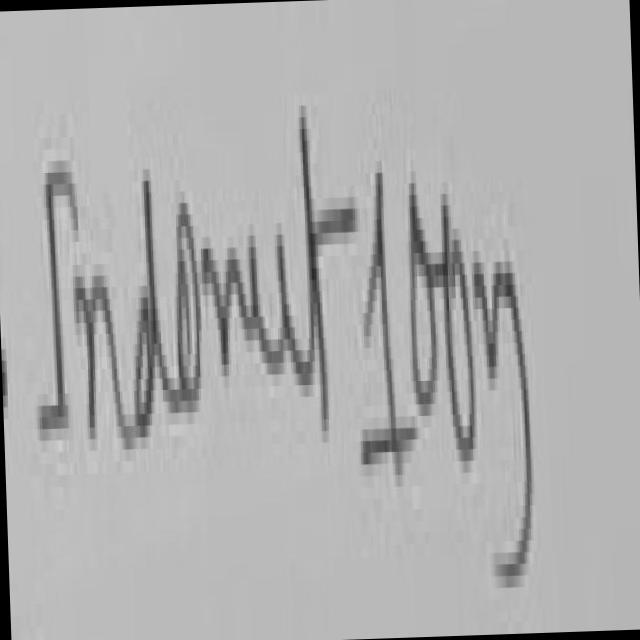0: (443, 228, 476, 471), (409, 183, 436, 419)
1: (363, 172, 417, 458)
I: (45, 164, 65, 422)
d: (135, 177, 180, 443)
g: (491, 261, 533, 581)
n: (73, 260, 133, 449), (200, 244, 257, 371)
o: (175, 203, 201, 411)
t: (296, 116, 338, 431)
u: (248, 196, 309, 388)
